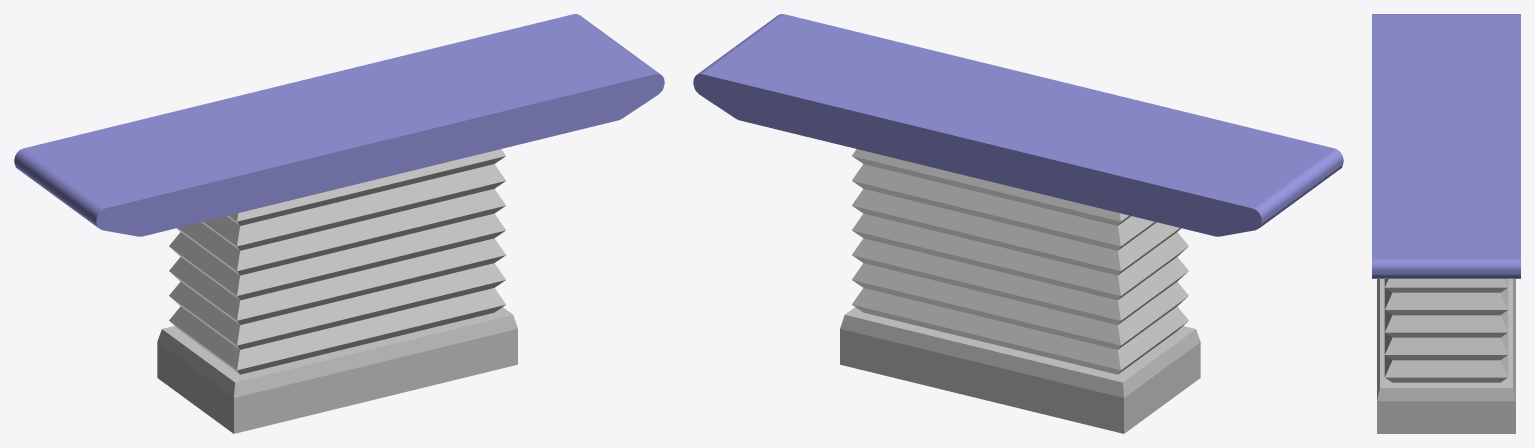
File: patient_table.glb
3 views of the same model, side by side, from view 1: azimuth 30°, elevation 25°; view 2: azimuth 150°, elevation 25°; view 3: azimuth 270°, elevation 25° (orthographic). The views are drawn at different scales.
Size of the model in its own units: 2.44 by 1.06 by 0.6096.
